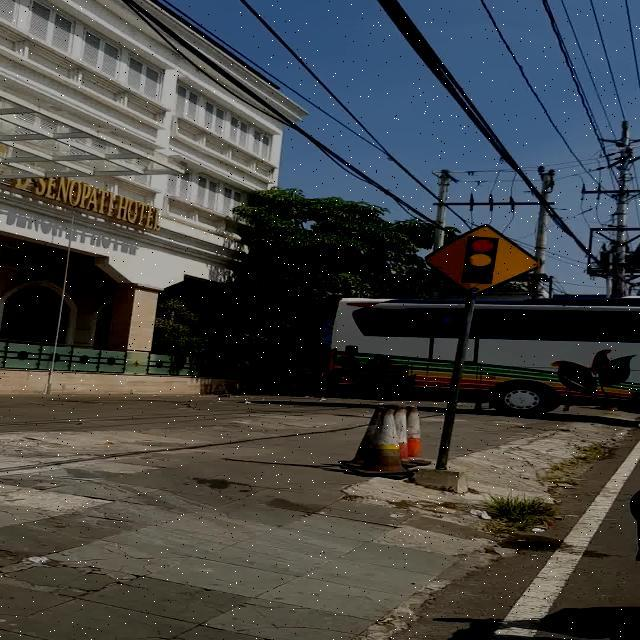Lampu Lalu Lintas: (425, 224, 538, 296)
